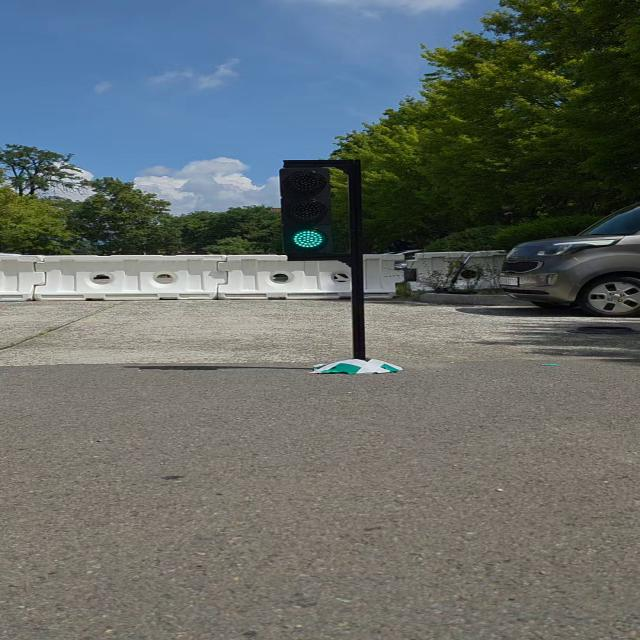green: (280, 166, 333, 259)
